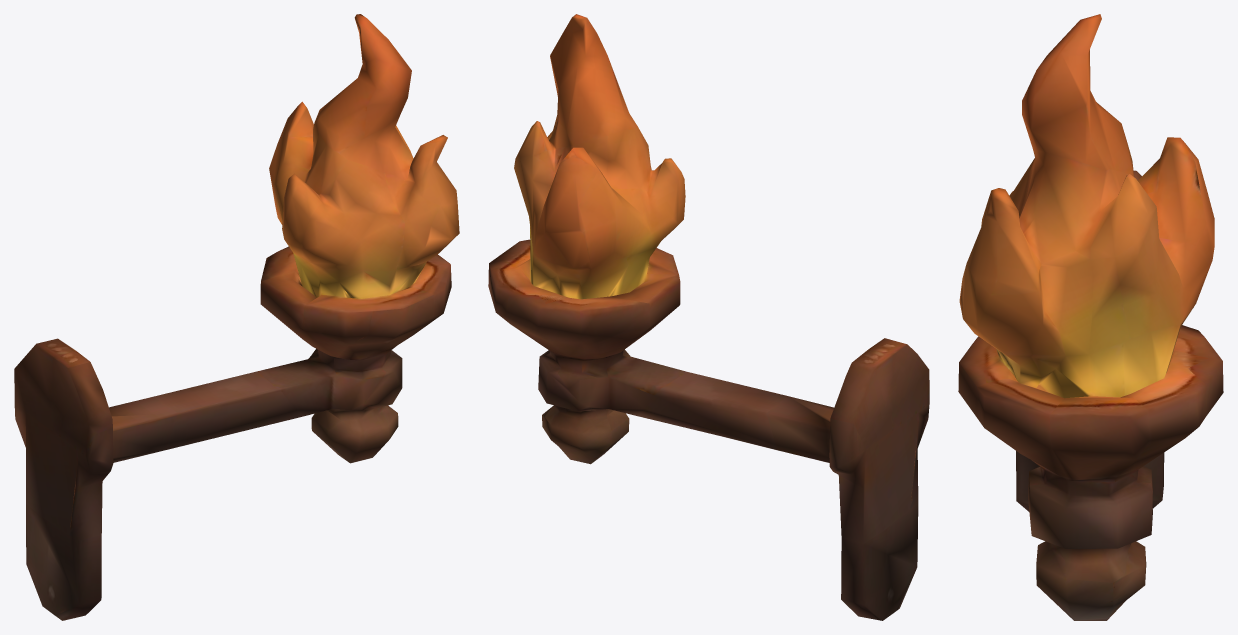
The model's file is torch.glb.
The picture shows the model from 3 angles, left to right: view 1: azimuth 30°, elevation 25°; view 2: azimuth 150°, elevation 25°; view 3: azimuth 270°, elevation 25°; orthographic projection. The views are drawn at different scales.
Parts seen in each view (by area): view 1: tripo_node_575e369c-7c1a-4efc-95ac-983f5882fa0a; view 2: tripo_node_575e369c-7c1a-4efc-95ac-983f5882fa0a; view 3: tripo_node_575e369c-7c1a-4efc-95ac-983f5882fa0a.
Part boxes in pixels (x1,y1,x2,y2): tripo_node_575e369c-7c1a-4efc-95ac-983f5882fa0a: (14,14,459,620); tripo_node_575e369c-7c1a-4efc-95ac-983f5882fa0a: (488,14,929,620); tripo_node_575e369c-7c1a-4efc-95ac-983f5882fa0a: (958,14,1223,620).
Bounding box in the file's own units: 0.7325 × 0.9462 × 0.3166.
1 material, 1 textured.
